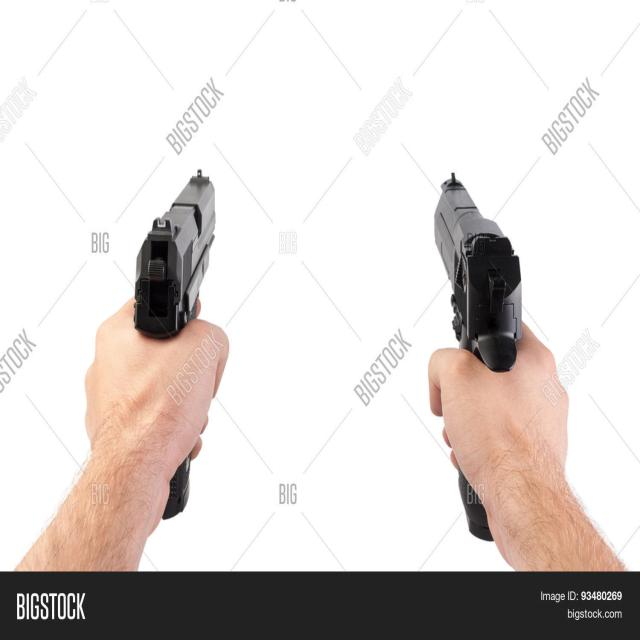handgun: (435, 171, 525, 544), (133, 170, 218, 520)
